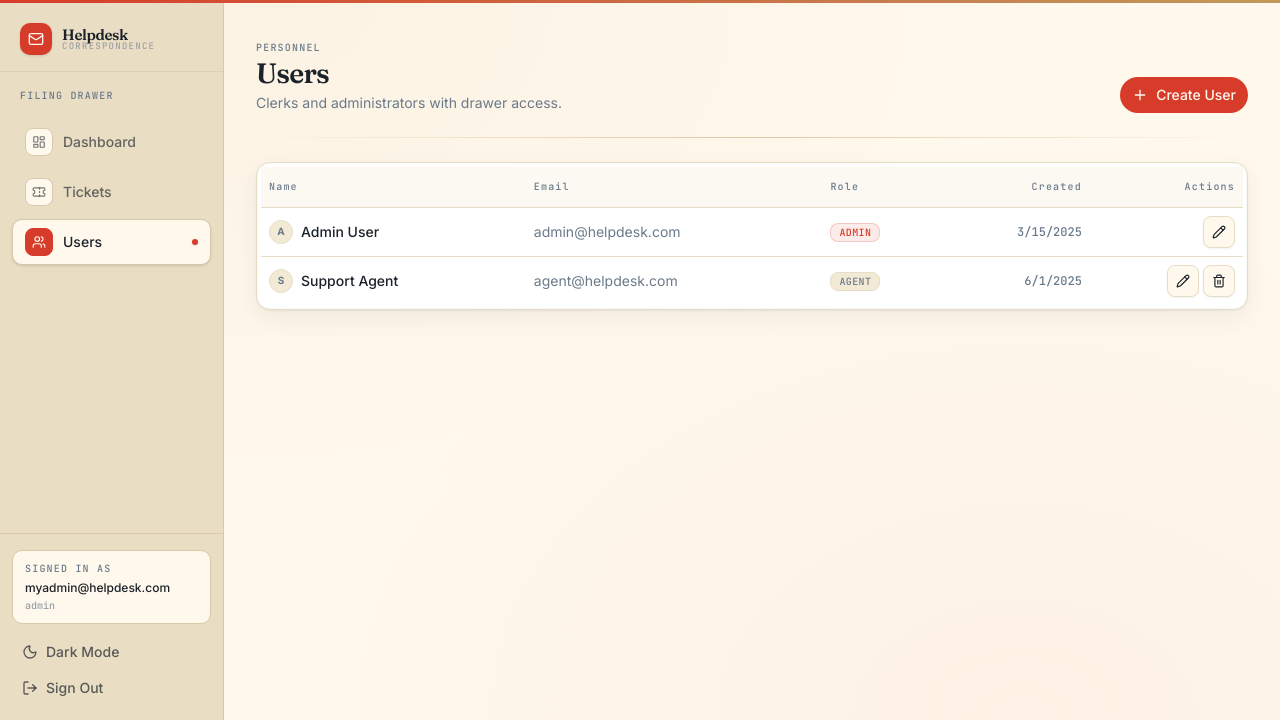
it: Create User dialog › shows validation error for name shorter than 3 characters
Click the button "Create User" at (1184, 95), box [1120, 77, 1248, 113]
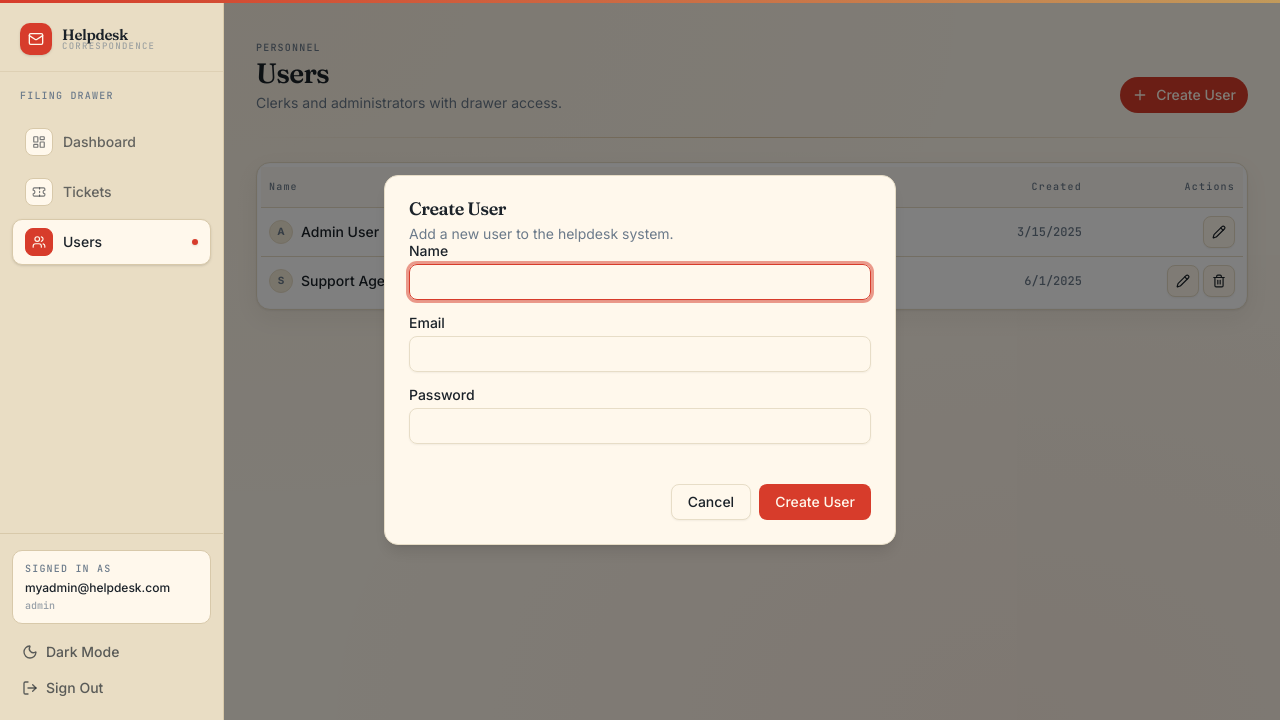
Type "ab" into the field labelled "Name" at (640, 282), box [409, 264, 871, 300]
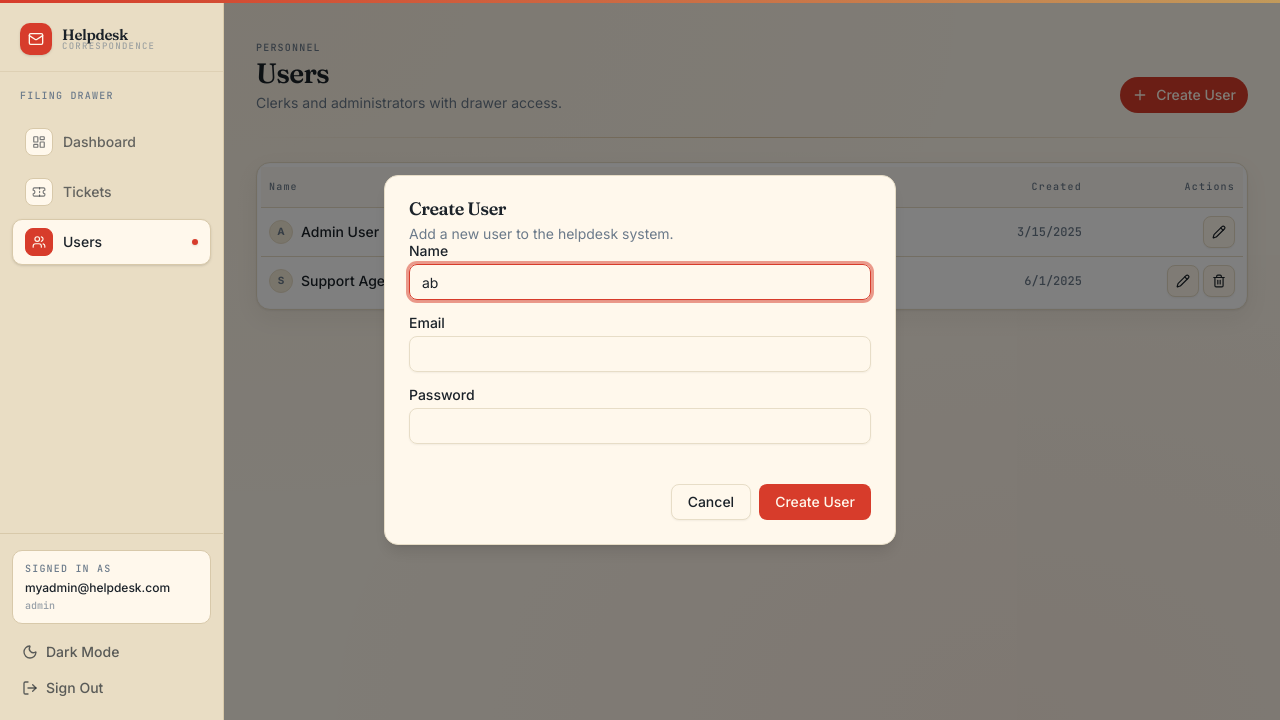
Press Tab
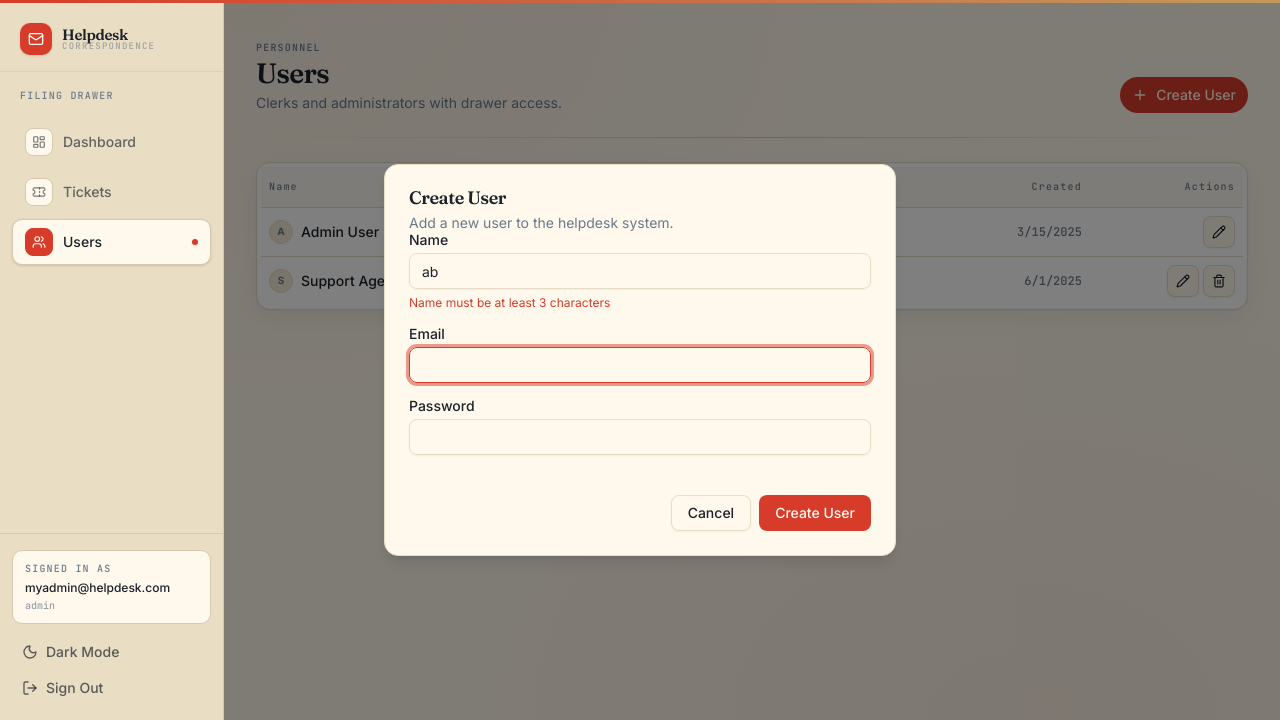
Expected: the text "Name must be at least 3 characters" is shown, [409, 295, 610, 310]
